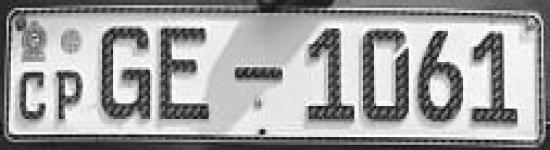-: (235, 62, 288, 86)
0: (361, 20, 412, 127)
1: (300, 20, 360, 125), (463, 29, 524, 131)
6: (412, 23, 463, 127)
C: (16, 66, 52, 127)
E: (155, 20, 218, 128)
G: (95, 20, 155, 128)
P: (53, 64, 87, 125)
